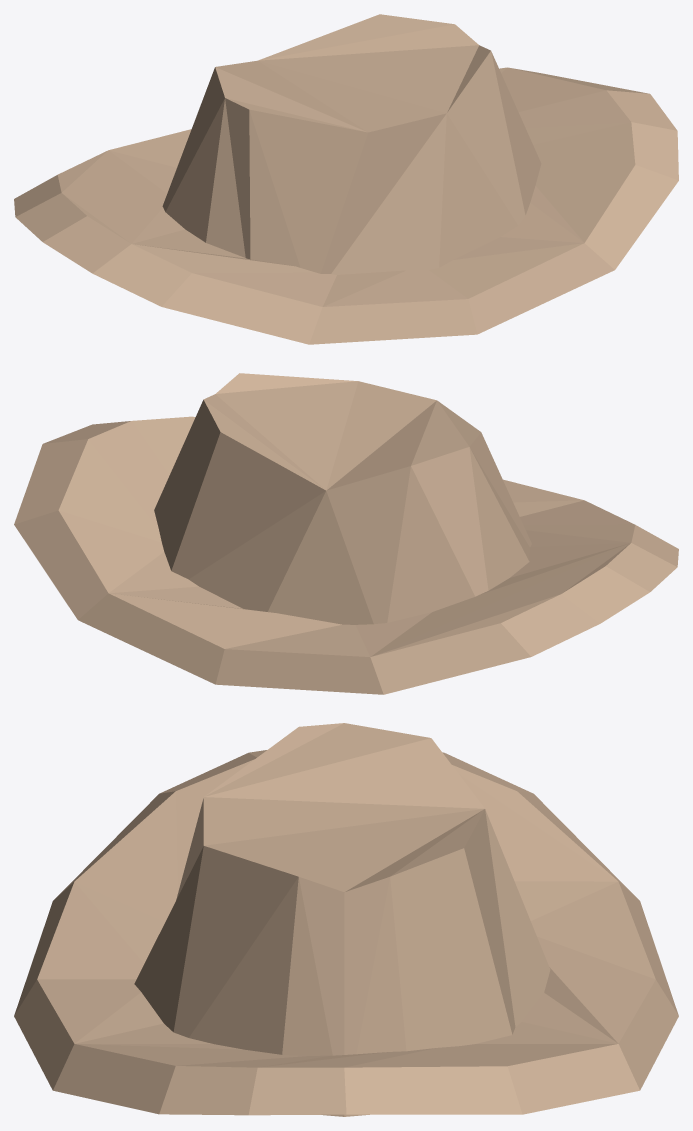
The model's file is CowboyHat.fbx.
3 renders of one model, top to bottom at view 1: azimuth 30°, elevation 25°; view 2: azimuth 150°, elevation 25°; view 3: azimuth 270°, elevation 25°, orthographic. The views are drawn at different scales.
Parts seen in each view (by area): view 1: cowboyHat; view 2: cowboyHat; view 3: cowboyHat.
Boxes of the visible parts, left/top/right/bottom form: cowboyHat: left=14, top=14, right=678, bottom=344; cowboyHat: left=14, top=373, right=678, bottom=694; cowboyHat: left=14, top=723, right=678, bottom=1116.
Size of the model in its own units: 4.75 by 1.28 by 3.54.
